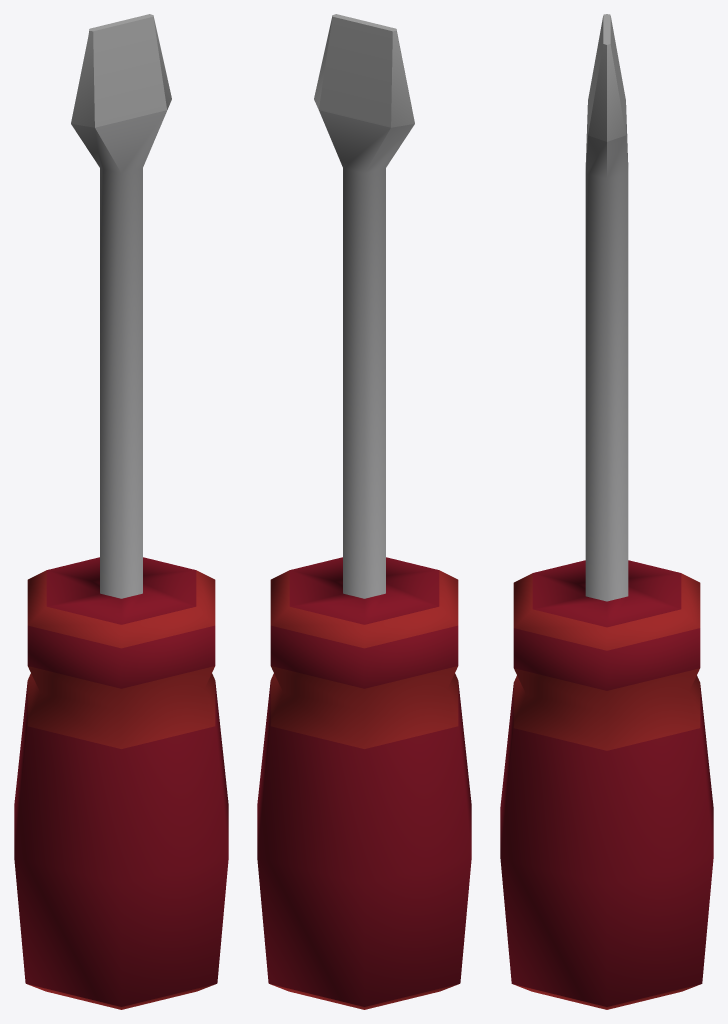
File: screwdiver.glb
3 renders of one model, left to right at view 1: azimuth 30°, elevation 25°; view 2: azimuth 150°, elevation 25°; view 3: azimuth 270°, elevation 25°, orthographic.
Parts seen in each view (by area): view 1: ScrewdriverRed; view 2: ScrewdriverRed; view 3: ScrewdriverRed.
Part boxes in pixels (<box>): ScrewdriverRed: <box>14,14,228,1009</box>; ScrewdriverRed: <box>257,14,471,1009</box>; ScrewdriverRed: <box>500,14,713,1009</box>.
Bounding box in the file's own units: 0.0976 × 0.4134 × 0.0845.
Materials: 1 (1 with a texture image).
